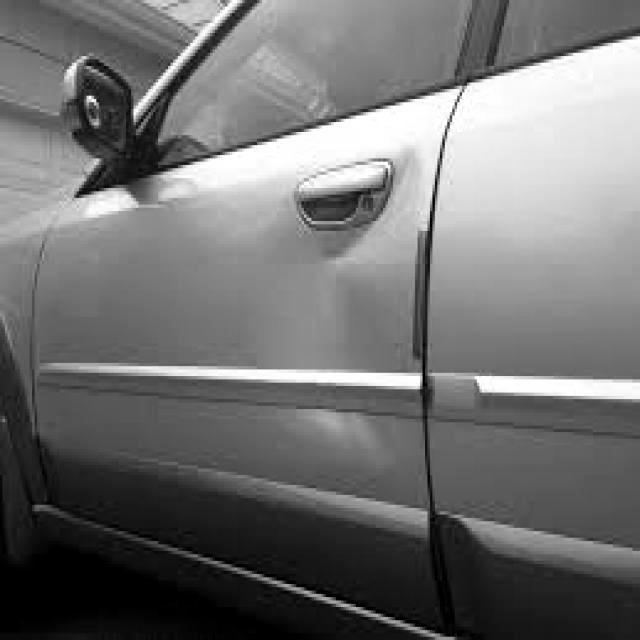doorouter-dent: (248, 122, 487, 600)
